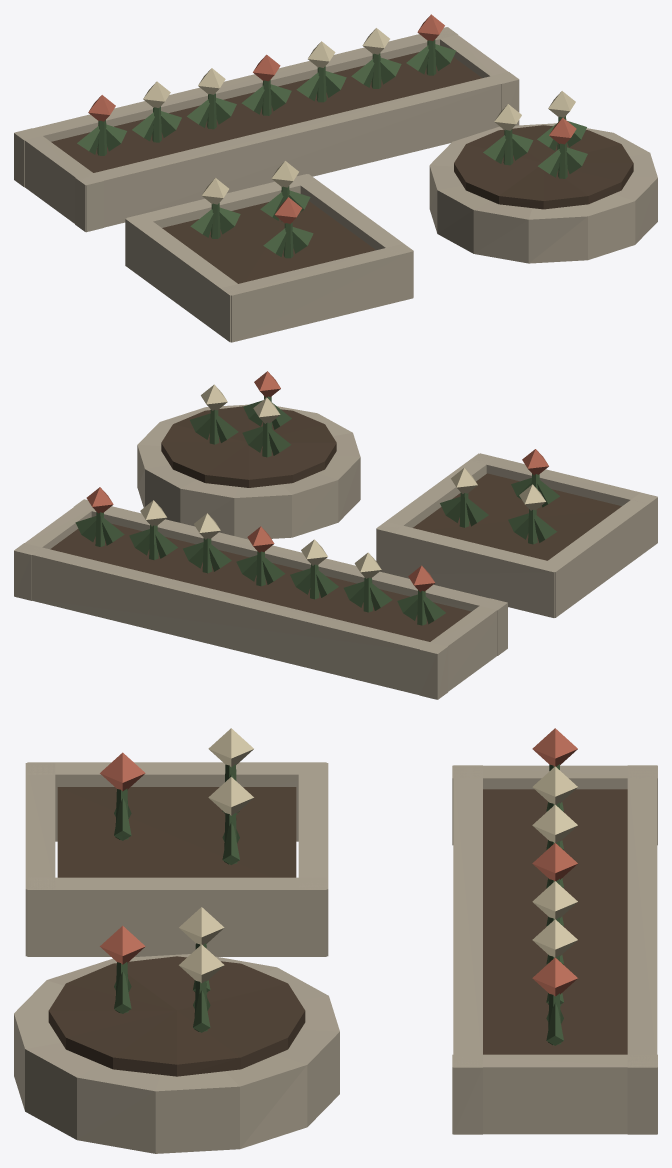
Rendered from flower-beds.source.glb.
The picture shows the model from 3 angles, top to bottom: view 1: azimuth 30°, elevation 25°; view 2: azimuth 150°, elevation 25°; view 3: azimuth 270°, elevation 25°; orthographic projection. The views are drawn at different scales.
Visible parts, largest first — view 1: flower-beds-long-bed-side--0.62-mesh, flower-beds-round-bed-stone-wall-mesh, flower-beds-long-bed-soil-mesh, flower-beds-square-bed-side-1.98-mesh, flower-beds-round-bed-soil-mesh, flower-beds-square-bed-soil-mesh, flower-beds-square-bed-end--2.13-mesh, flower-beds-long-bed-side--1.68-mesh, flower-beds-long-bed-end--2.08-mesh, flower-beds-square-bed-end--0.47-mesh, flower-beds-square-bed-side-0.32-mesh, flower-beds-long-bed-end-2.08-mesh; view 2: flower-beds-long-bed-side--1.68-mesh, flower-beds-round-bed-stone-wall-mesh, flower-beds-long-bed-soil-mesh, flower-beds-square-bed-side-0.32-mesh, flower-beds-round-bed-soil-mesh, flower-beds-square-bed-soil-mesh, flower-beds-square-bed-end--2.13-mesh, flower-beds-long-bed-side--0.62-mesh, flower-beds-long-bed-end--2.08-mesh, flower-beds-square-bed-side-1.98-mesh, flower-beds-long-bed-end-2.08-mesh, flower-beds-square-bed-end--0.47-mesh; view 3: flower-beds-long-bed-soil-mesh, flower-beds-round-bed-stone-wall-mesh, flower-beds-round-bed-soil-mesh, flower-beds-square-bed-end--0.47-mesh, flower-beds-square-bed-soil-mesh, flower-beds-long-bed-end-2.08-mesh, flower-beds-long-bed-side--1.68-mesh, flower-beds-long-bed-side--0.62-mesh, flower-beds-square-bed-end--2.13-mesh, flower-beds-square-bed-side-0.32-mesh, flower-beds-square-bed-side-1.98-mesh, flower-beds-long-bed-end--2.08-mesh (+13 smaller).
Part boxes in pixels (x1=…): flower-beds-long-bed-side--0.62-mesh: x1=75, y1=72, x2=519, y2=231; flower-beds-round-bed-stone-wall-mesh: x1=429, y1=123, x2=657, y2=263; flower-beds-long-bed-soil-mesh: x1=51, y1=52, x2=481, y2=172; flower-beds-square-bed-side-1.98-mesh: x1=221, y1=244, x2=413, y2=342; flower-beds-round-bed-soil-mesh: x1=454, y1=125, x2=633, y2=209; flower-beds-square-bed-soil-mesh: x1=162, y1=201, x2=375, y2=283; flower-beds-square-bed-end--2.13-mesh: x1=125, y1=216, x2=237, y2=342; flower-beds-long-bed-side--1.68-mesh: x1=14, y1=27, x2=457, y2=187; flower-beds-long-bed-end--2.08-mesh: x1=14, y1=128, x2=103, y2=232; flower-beds-square-bed-end--0.47-mesh: x1=294, y1=174, x2=413, y2=297; flower-beds-square-bed-side-0.32-mesh: x1=125, y1=174, x2=317, y2=227; flower-beds-long-bed-end-2.08-mesh: x1=440, y1=27, x2=518, y2=125; flower-beds-long-bed-side--1.68-mesh: x1=14, y1=543, x2=448, y2=699; flower-beds-round-bed-stone-wall-mesh: x1=137, y1=404, x2=360, y2=539; flower-beds-long-bed-soil-mesh: x1=50, y1=523, x2=471, y2=641; flower-beds-square-bed-side-0.32-mesh: x1=376, y1=522, x2=562, y2=617; flower-beds-round-bed-soil-mesh: x1=161, y1=406, x2=336, y2=487; flower-beds-square-bed-soil-mesh: x1=413, y1=473, x2=621, y2=560; flower-beds-square-bed-end--2.13-mesh: x1=538, y1=493, x2=657, y2=617; flower-beds-long-bed-side--0.62-mesh: x1=74, y1=499, x2=507, y2=655; flower-beds-long-bed-end--2.08-mesh: x1=419, y1=598, x2=507, y2=699; flower-beds-square-bed-side-1.98-mesh: x1=470, y1=453, x2=657, y2=505; flower-beds-long-bed-end-2.08-mesh: x1=14, y1=499, x2=93, y2=600; flower-beds-square-bed-end--0.47-mesh: x1=376, y1=453, x2=494, y2=561; flower-beds-long-bed-soil-mesh: x1=483, y1=789, x2=627, y2=1054; flower-beds-round-bed-stone-wall-mesh: x1=14, y1=954, x2=339, y2=1153; flower-beds-round-bed-soil-mesh: x1=48, y1=956, x2=305, y2=1076; flower-beds-square-bed-end--0.47-mesh: x1=27, y1=877, x2=326, y2=956; flower-beds-square-bed-soil-mesh: x1=57, y1=787, x2=296, y2=877; flower-beds-long-bed-end-2.08-mesh: x1=452, y1=1054, x2=657, y2=1134; flower-beds-long-bed-side--1.68-mesh: x1=627, y1=765, x2=657, y2=1134; flower-beds-long-bed-side--0.62-mesh: x1=453, y1=765, x2=482, y2=1134; flower-beds-square-bed-end--2.13-mesh: x1=27, y1=762, x2=326, y2=841; flower-beds-square-bed-side-0.32-mesh: x1=298, y1=763, x2=328, y2=956; flower-beds-square-bed-side-1.98-mesh: x1=25, y1=763, x2=55, y2=956; flower-beds-long-bed-end--2.08-mesh: x1=452, y1=765, x2=657, y2=845.
Bounding box in the file's own units: 4.66 × 1.07 × 3.92.
